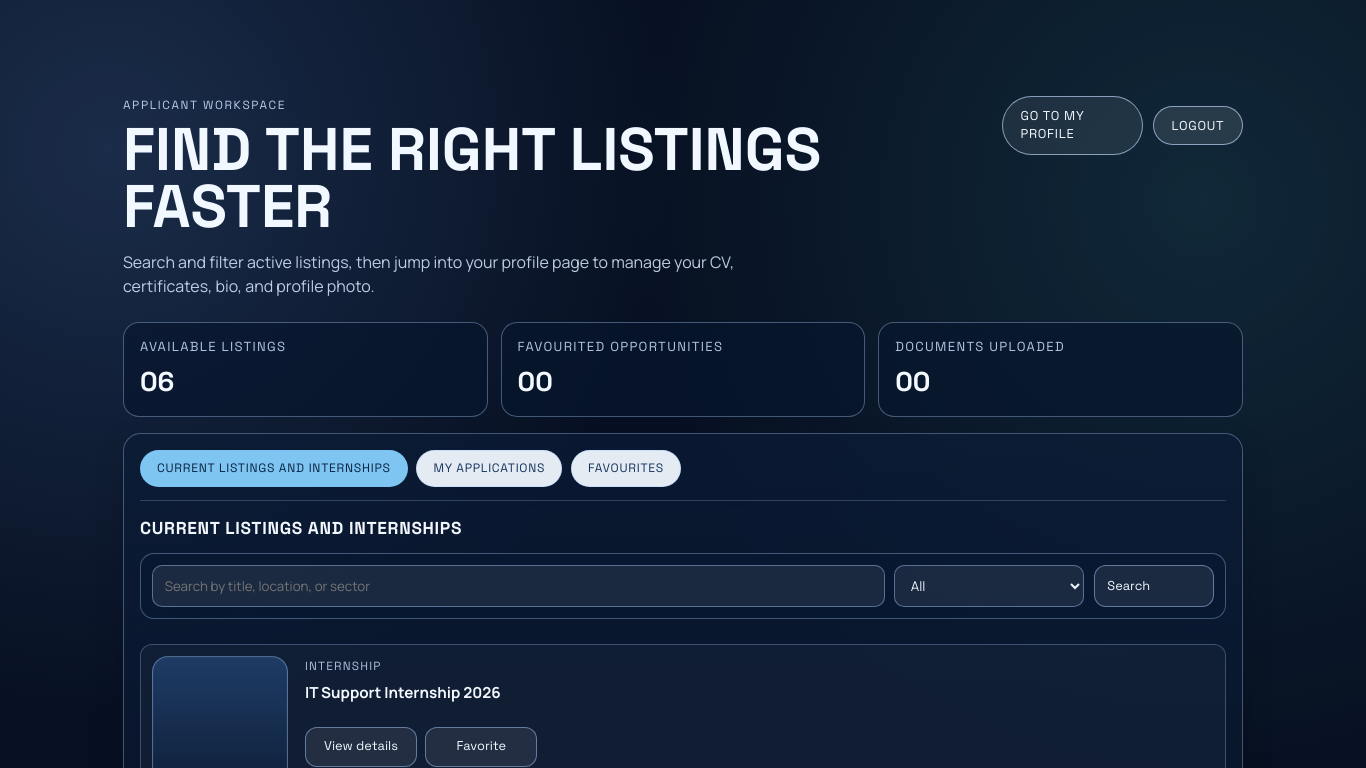
Test: Applicant search listings › shows a clear no-results message when nothing matches
Type "biochemistry" into the search field with placeholder "Search by title, location, or sector" at (518, 586), box [152,565,885,607]
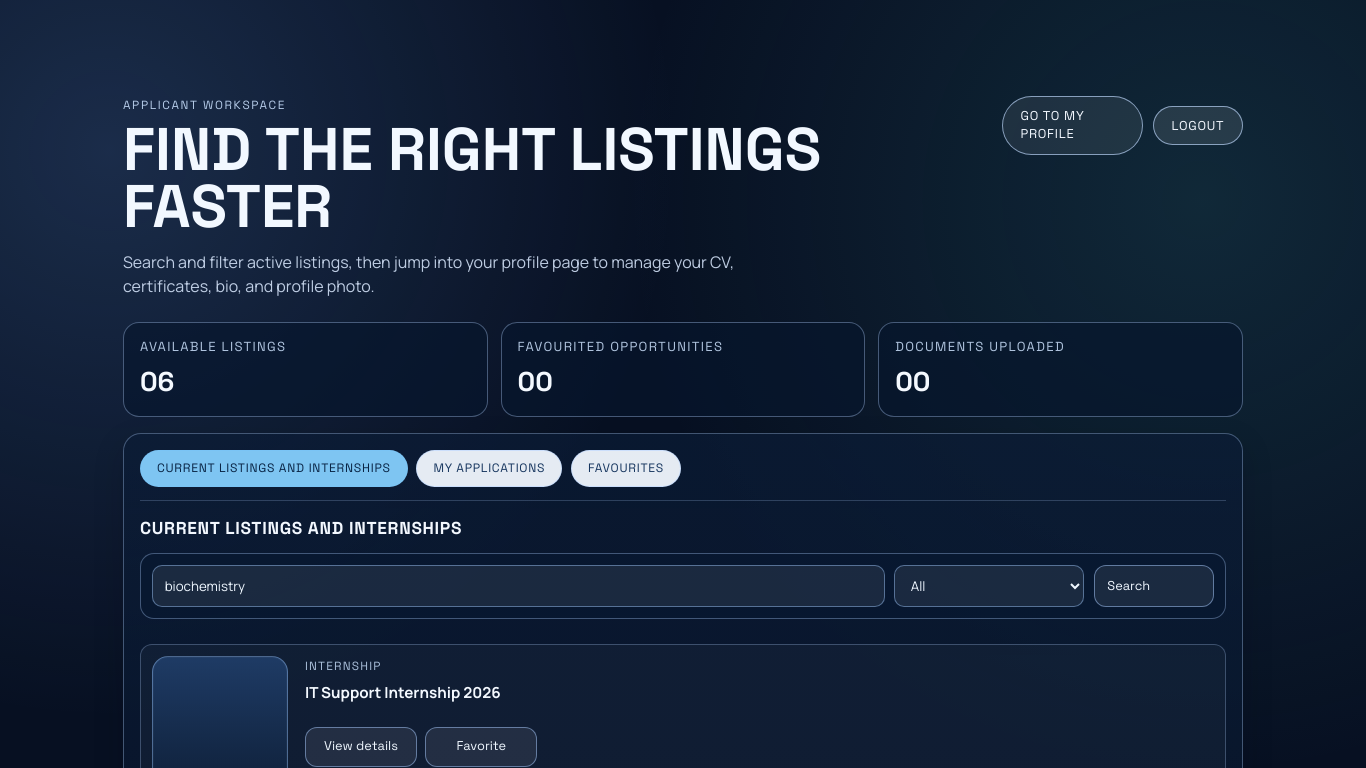
Select "All" in the dropdown named "Filter listing type" at (989, 586), box [894,565,1084,607]
Click the button "Search" at (1154, 586), box [1094,565,1214,607]
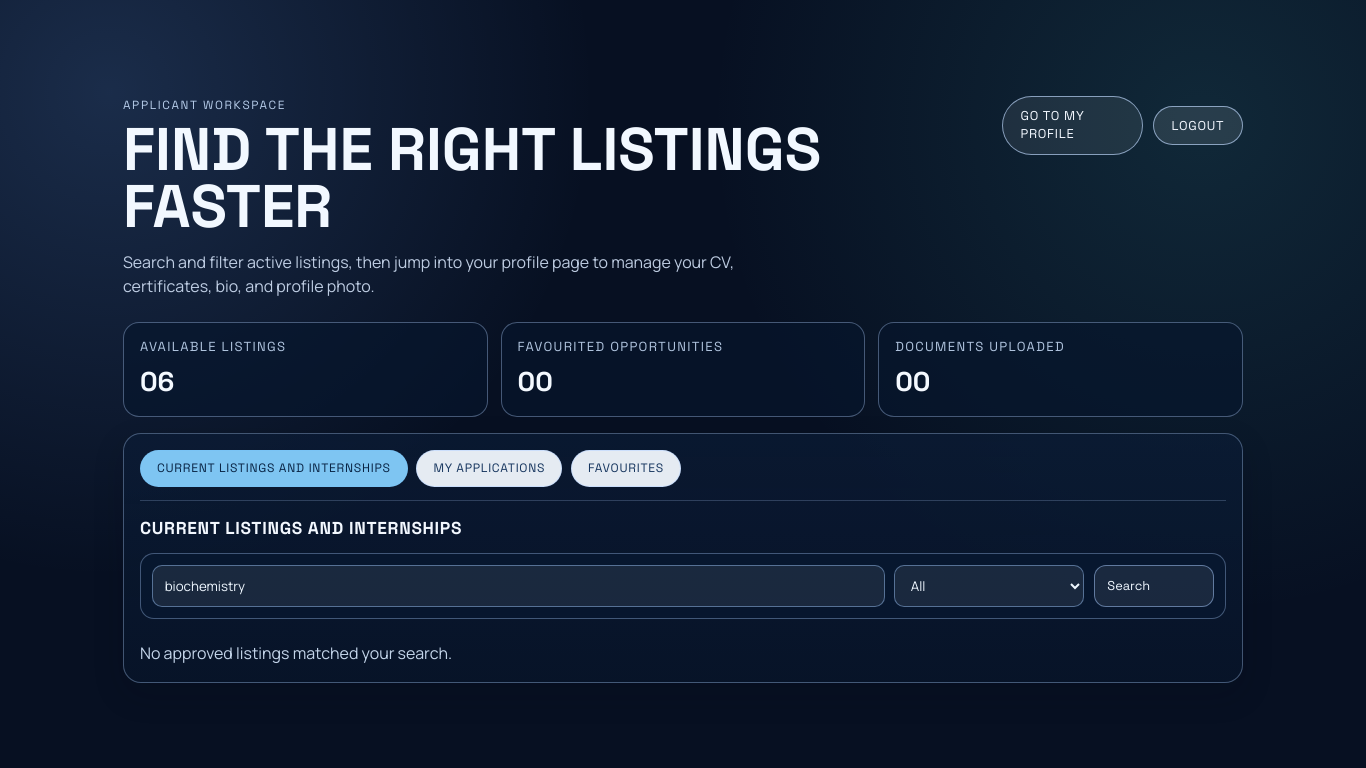
Expected: the text "No approved listings matched your search." is shown, [140,642,452,664]
